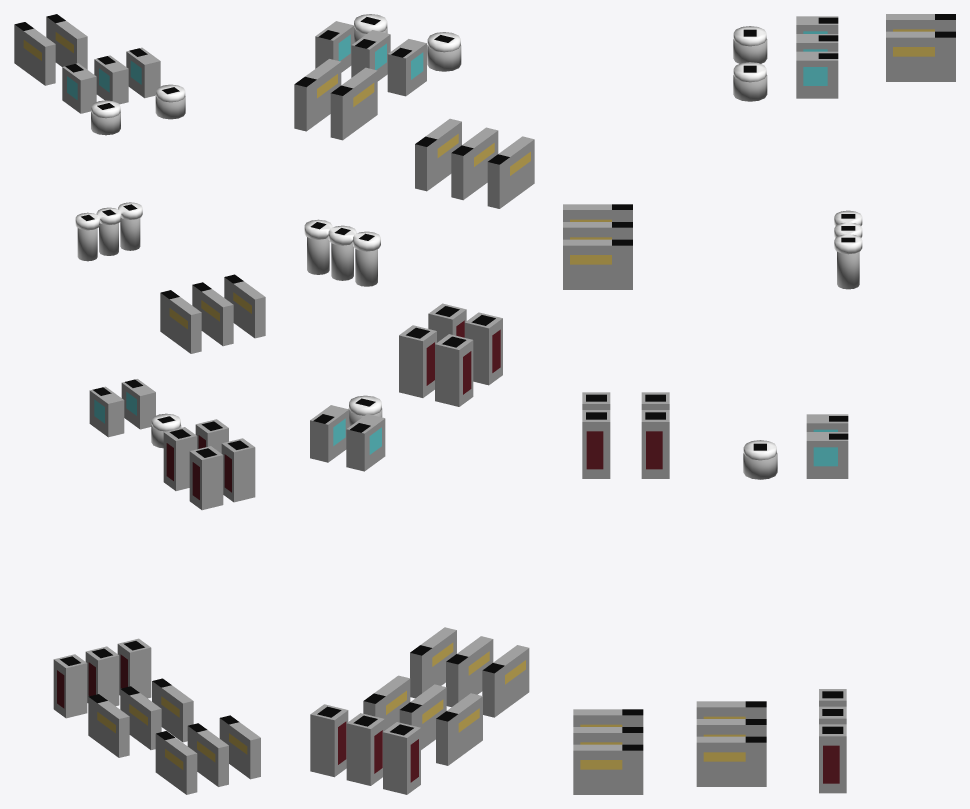
File: drug_in_cabinet.dae
3 renders of one model, left to right at view 1: azimuth 30°, elevation 25°; view 2: azimuth 150°, elevation 25°; view 3: azimuth 270°, elevation 25°, orthographic. The views are drawn at different scales.
Visible parts, largest first — view 1: Cube 1, Cube 1.003, Cube 1.001, Cube 3, Cube 2.002, Cube 3.001, Cube 1.002, Cylinder 1.003, Cube 2.001, Cube 3.002, Cylinder 2.002, Cylinder 2.001; view 2: Cube 3, Cube 1.003, Cube 1, Cube 1.001, Cube 3.002, Cube 1.002, Cube 2.002, Cylinder 1.003, Cube 2.001, Cube 3.001, Cylinder 2.002, Cylinder 2.001; view 3: Cube 1, Cube 1.001, Cube 1.003, Cube 1.002, Cube 2.002, Cube 3, Cube 2.001, Cube 3.001, Cube 3.002, Cylinder 2.002, Cylinder 1.003, Cylinder 2.001.
Boxes of the visible parts, x1,y1,x2,y2 form: Cube 1: (155, 715, 260, 794); Cube 1.003: (160, 274, 265, 353); Cube 1.001: (88, 678, 193, 757); Cube 3: (53, 638, 151, 718); Cube 2.002: (62, 47, 160, 113); Cube 3.001: (189, 438, 255, 510); Cube 1.002: (14, 14, 87, 85); Cylinder 1.003: (75, 202, 142, 261); Cube 2.001: (89, 379, 155, 437); Cube 3.002: (163, 419, 228, 490); Cylinder 2.002: (91, 84, 185, 135); Cylinder 2.001: (151, 413, 181, 448); Cube 3: (310, 704, 420, 794); Cube 1.003: (415, 118, 534, 208); Cube 1: (410, 627, 529, 717); Cube 1.001: (363, 675, 482, 765); Cube 3.002: (399, 325, 473, 406); Cube 1.002: (294, 59, 377, 140); Cube 2.002: (315, 21, 426, 96); Cylinder 1.003: (304, 219, 380, 286); Cube 2.001: (310, 405, 385, 471); Cube 3.001: (428, 303, 502, 385); Cylinder 2.002: (354, 14, 461, 71); Cylinder 2.001: (348, 395, 382, 426); Cube 1: (573, 709, 643, 794); Cube 1.001: (696, 701, 766, 786); Cube 1.003: (563, 204, 632, 289); Cube 1.002: (886, 14, 955, 81); Cube 2.002: (796, 16, 838, 98); Cube 3: (819, 689, 846, 793); Cube 2.001: (806, 414, 848, 478); Cube 3.001: (582, 392, 610, 478); Cube 3.002: (641, 392, 669, 478); Cylinder 2.002: (733, 26, 767, 101); Cylinder 1.003: (834, 210, 862, 289); Cylinder 2.001: (743, 440, 777, 479).
Bounding box in the file's own units: 0.1713 × 0.562 × 1.16.
